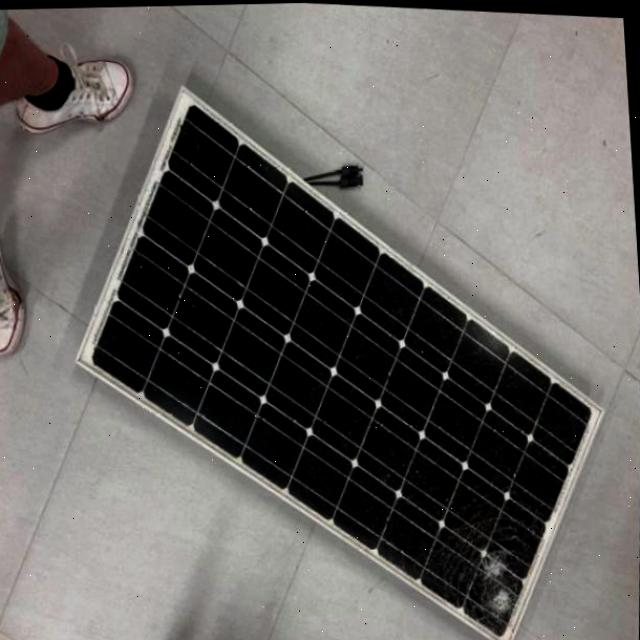Structural Damage: (414, 468, 547, 638)
